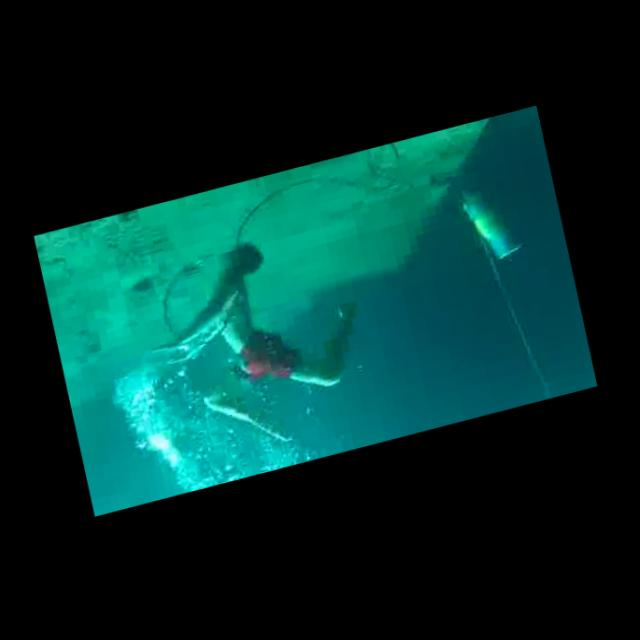human: (129, 209, 389, 476)
